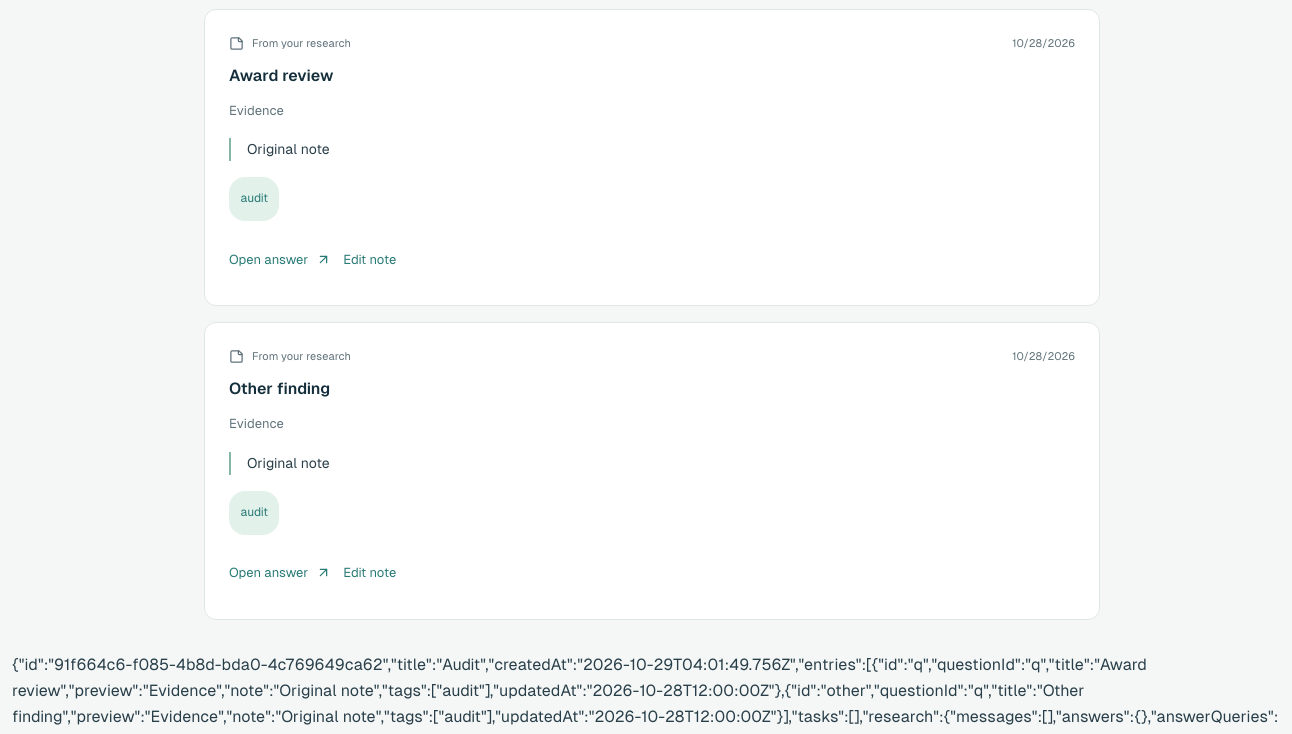
Notebook › edits inside the selected card and keeps that card in place after save
(page scrolled)
Click the 2nd button "Edit note" at (370, 573), box [343,551,396,595]
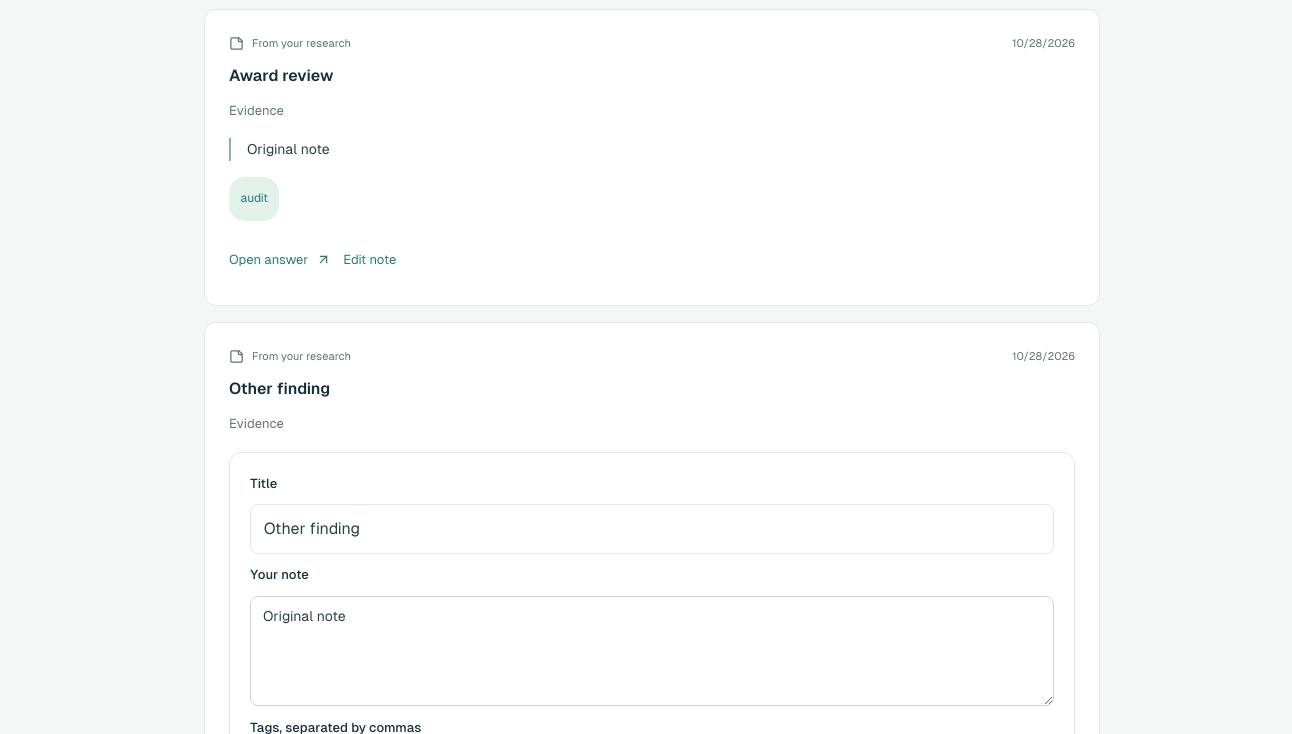
Expected: the text box labelled "Your note" holds "Original note"
Replace the text in the text box labelled "Your note" with "Updated in place" at (652, 651), box [250,596,1054,706]
(page scrolled)
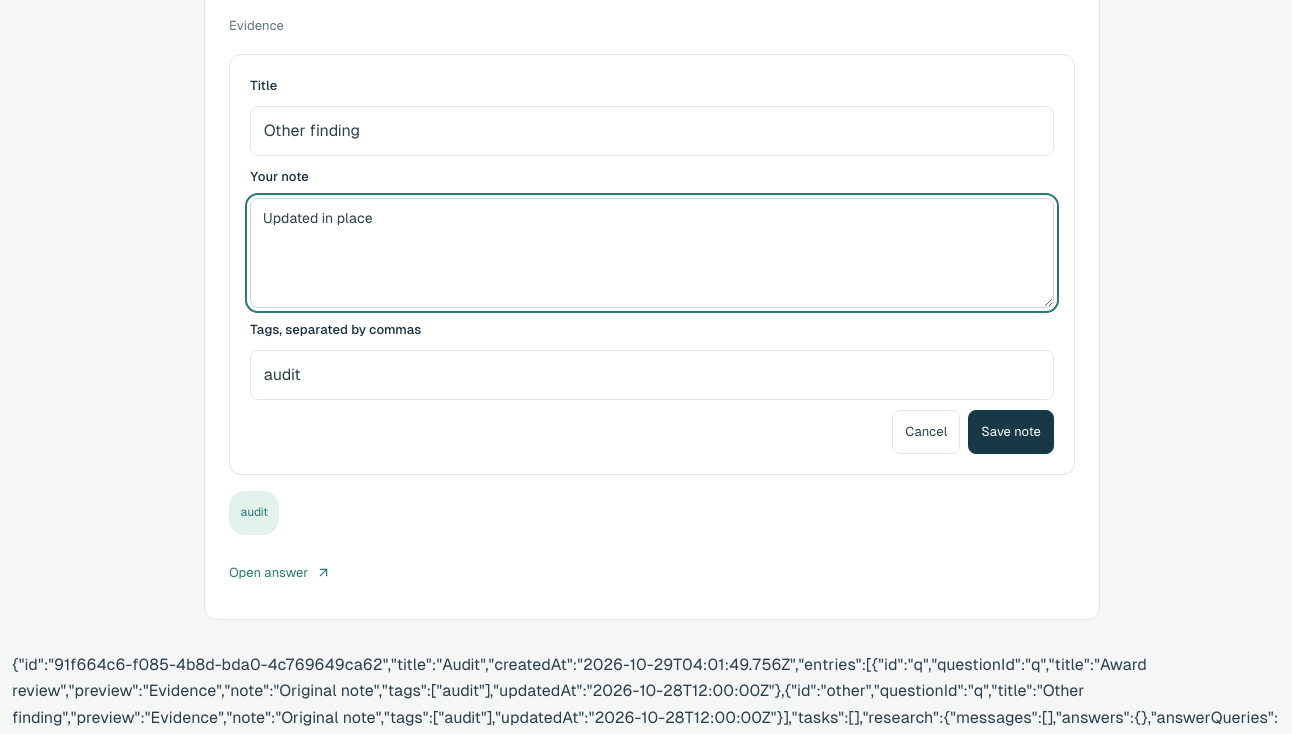
Click the button "Save note" at (1011, 432), box [968,410,1054,454]
(page scrolled)
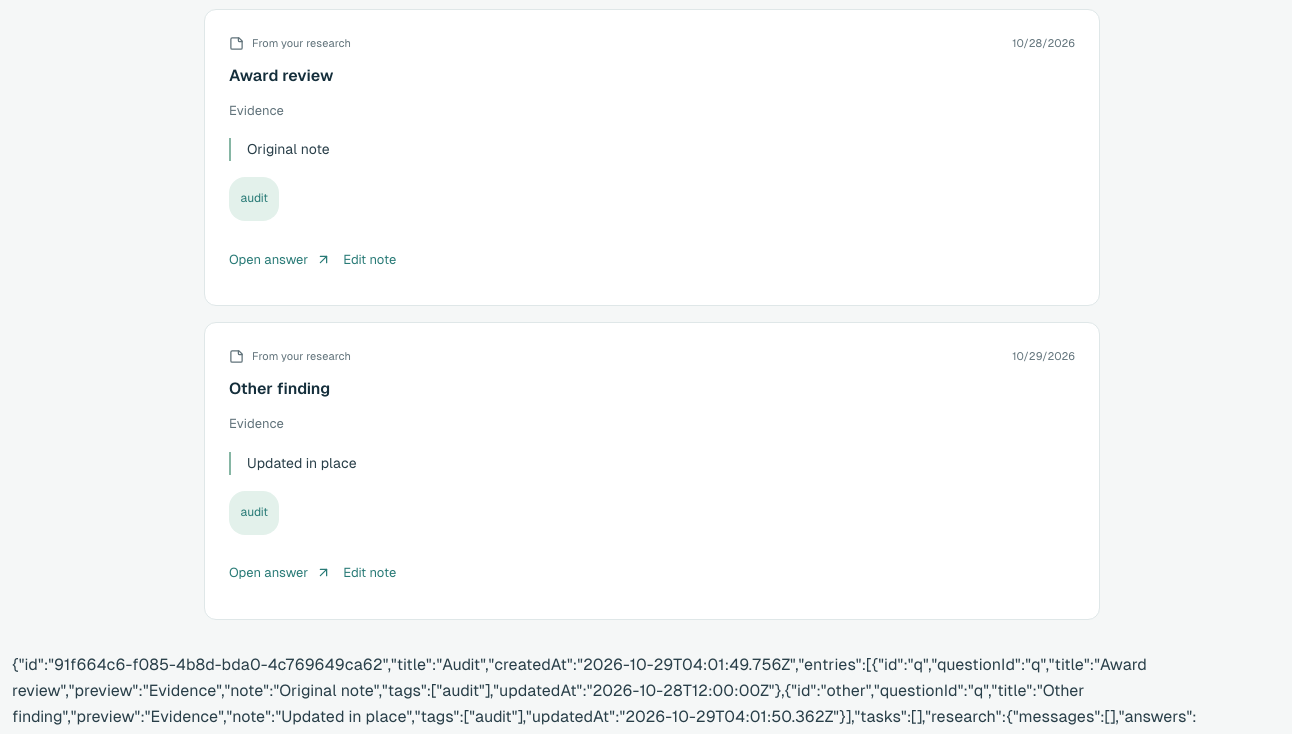
Expected: the text "Updated in place" is shown, [229,452,1075,475]
